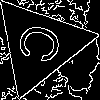C: (14, 20, 73, 70)
